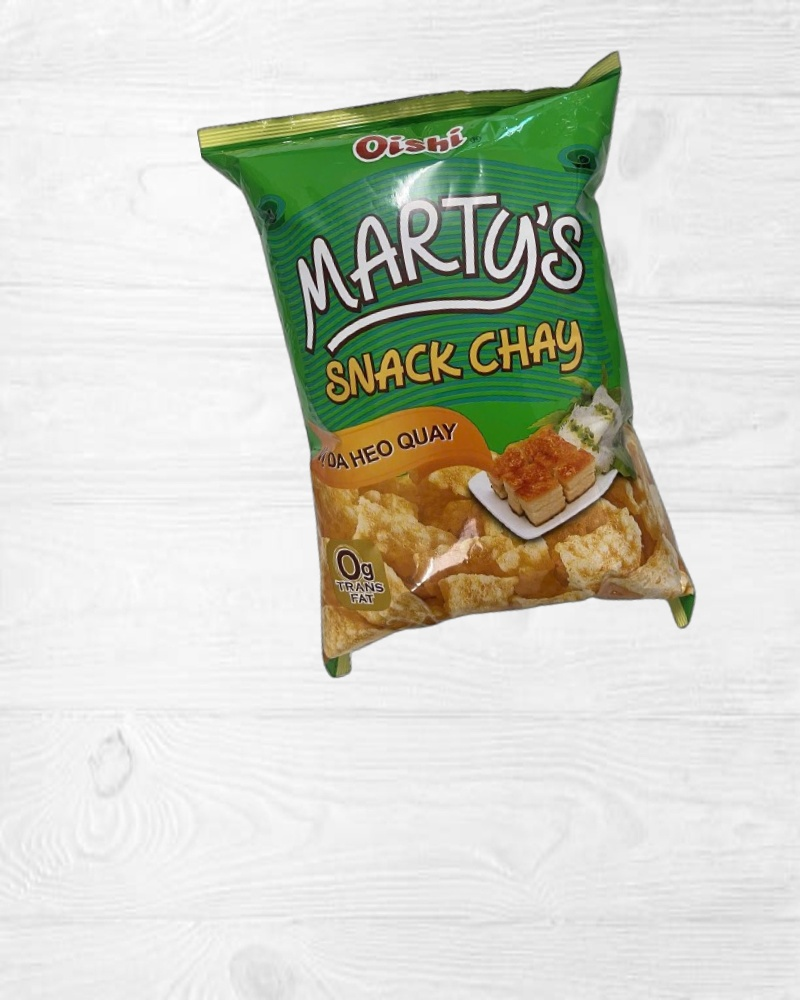Snack chay: (197, 51, 720, 697)
